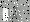person: (11, 8, 17, 19), (4, 9, 9, 22)
